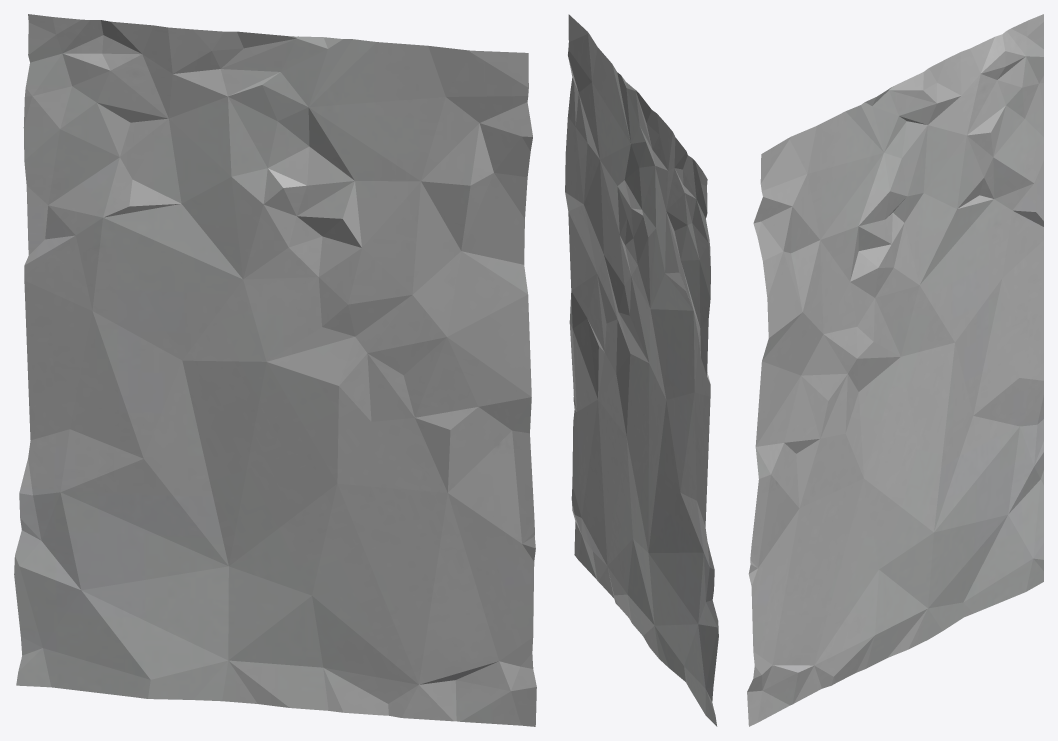
The picture shows the model from 3 angles, left to right: view 1: azimuth 30°, elevation 25°; view 2: azimuth 150°, elevation 25°; view 3: azimuth 270°, elevation 25°; orthographic projection. The views are drawn at different scales.
Size of the model in its own units: 0.4578 by 0.8373 by 0.3934.
2 materials, 2 textured.
